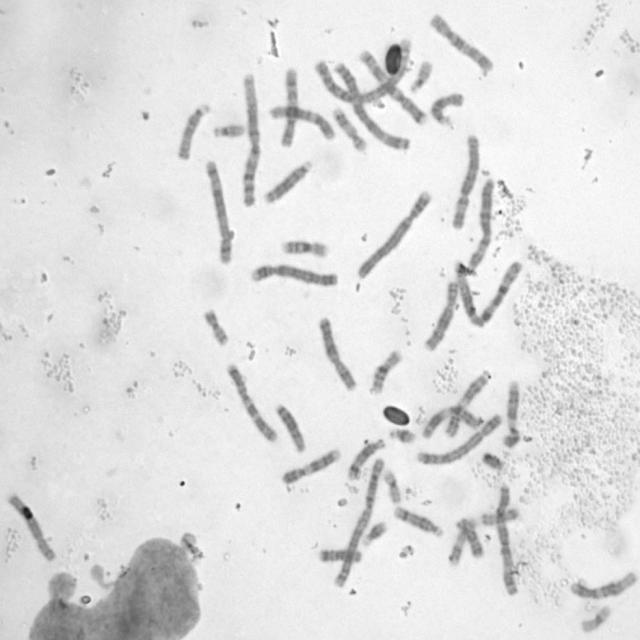A1: (455, 260, 523, 330), (237, 69, 264, 210)
A2: (332, 454, 388, 590), (313, 37, 412, 106)
A3: (336, 58, 413, 154), (491, 479, 526, 596)
B4: (354, 192, 432, 281), (242, 260, 340, 290)
B5: (415, 414, 503, 467), (196, 156, 235, 268)
C10: (426, 12, 498, 77), (277, 64, 299, 148)
C11: (443, 367, 491, 438), (419, 402, 485, 440)
C12: (269, 106, 336, 142), (568, 570, 638, 598)
C6: (448, 131, 484, 231), (467, 178, 498, 272)
C7: (358, 49, 427, 128), (225, 362, 278, 443)
C8: (5, 495, 57, 562), (418, 280, 459, 355)
C9: (279, 446, 343, 486), (499, 378, 520, 450)
D13: (261, 162, 313, 204), (272, 404, 308, 453)
D14: (348, 436, 389, 482), (392, 504, 442, 539)
D15: (175, 101, 211, 166), (430, 90, 464, 124)
E16: (370, 346, 404, 396), (279, 238, 329, 259)
E17: (330, 107, 369, 153), (445, 517, 478, 567)
E18: (454, 520, 485, 562), (318, 546, 363, 564)
F19: (578, 604, 614, 634), (384, 468, 401, 506)
F20: (200, 307, 232, 346), (479, 505, 520, 527)
G21: (360, 520, 386, 548), (388, 424, 418, 445)
G22: (410, 60, 433, 95), (212, 124, 245, 139)
X: (316, 317, 359, 393)
Y: (479, 449, 504, 471)
